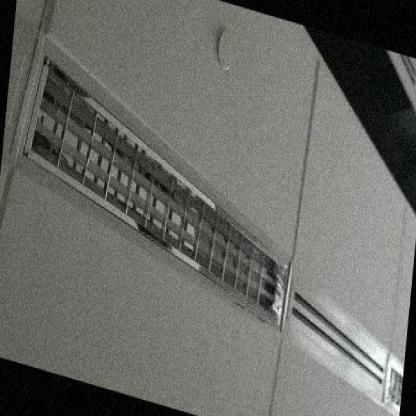light_off: (11, 13, 306, 348), (365, 331, 407, 415)
